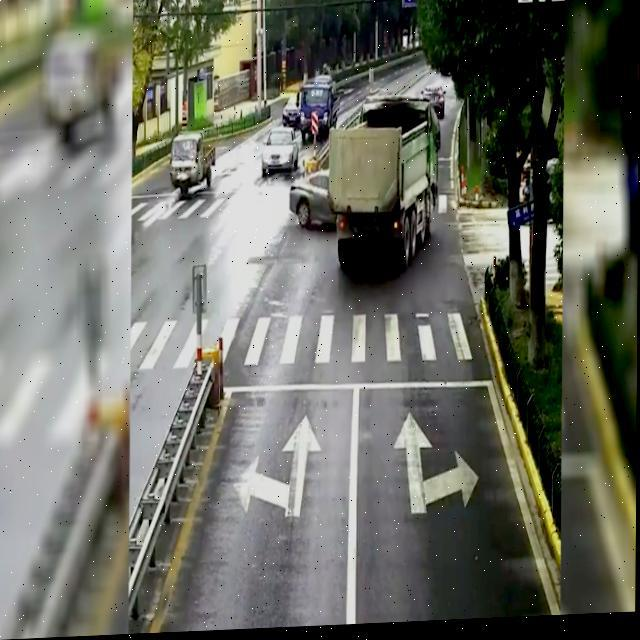multiple_accident: (238, 45, 478, 305)
